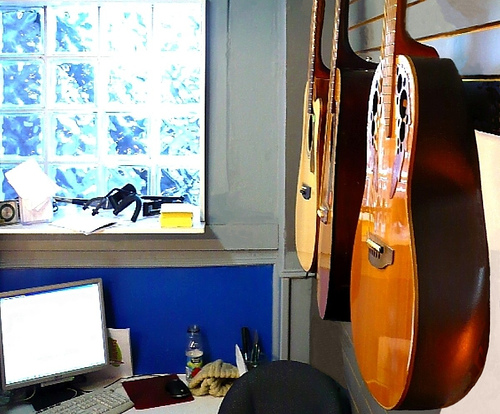guitar: (312, 1, 377, 329), (291, 1, 336, 272)
